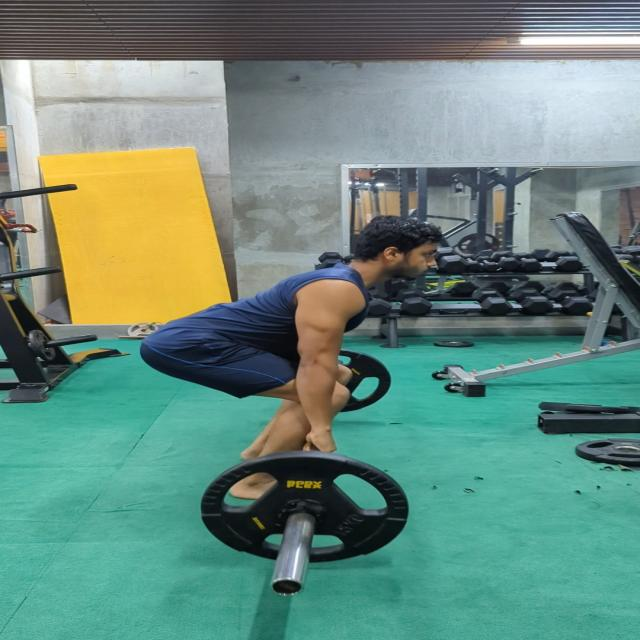Normal_Deadlifts: (139, 217, 457, 500)
